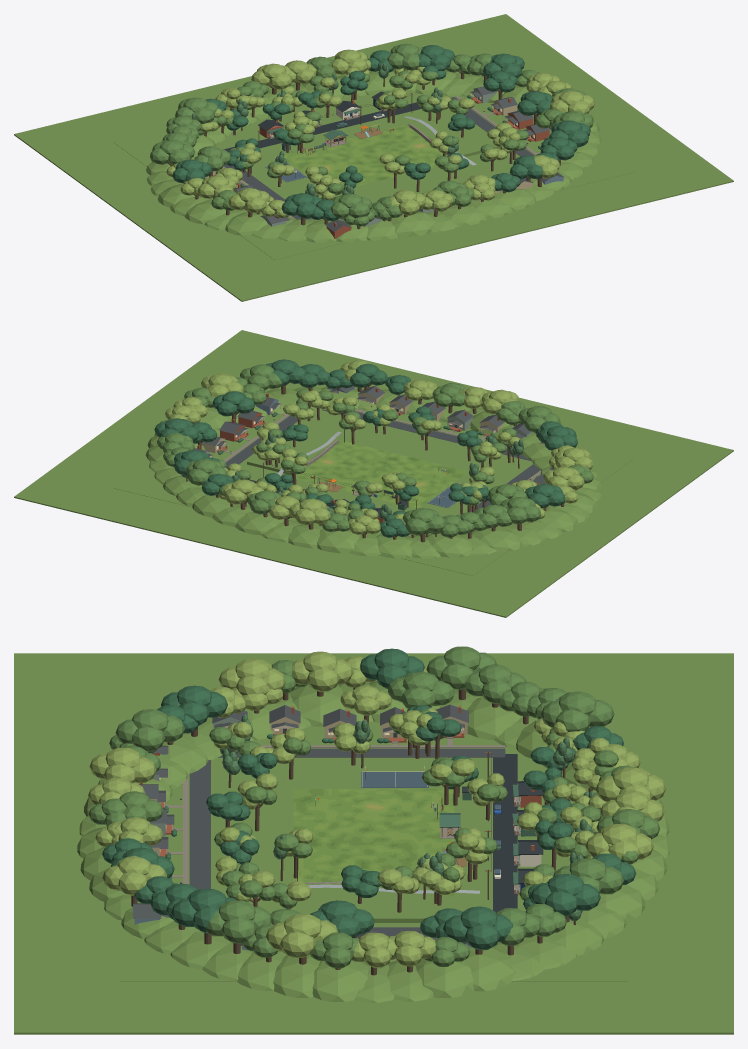
The model's file is eastside-commons.glb.
3 renders of one model, top to bottom at view 1: azimuth 30°, elevation 25°; view 2: azimuth 150°, elevation 25°; view 3: azimuth 270°, elevation 25°, orthographic. The views are drawn at different scales.
Visible parts, largest first — view 1: 01 • Eastside residential streets, Neighborhood tree canopy, Parkland and east terrace, 01 • Playing surface, Porches and street; view 2: 01 • Eastside residential streets, Neighborhood tree canopy, Parkland and east terrace, 01 • Playing surface, Park entrance and recreation; view 3: 01 • Eastside residential streets, Neighborhood tree canopy, Parkland and east terrace, 01 • Playing surface, Porches and street, Park entrance and recreation.
Boxes of the visible parts, <box> form: 01 • Eastside residential streets: <box>14,14,733,301</box>; Neighborhood tree canopy: <box>191,52,529,200</box>; Parkland and east terrace: <box>114,54,633,259</box>; 01 • Playing surface: <box>284,124,468,188</box>; Porches and street: <box>223,91,421,151</box>; 01 • Eastside residential streets: <box>14,330,733,617</box>; Neighborhood tree canopy: <box>181,389,523,537</box>; Parkland and east terrace: <box>114,382,633,575</box>; 01 • Playing surface: <box>281,439,468,508</box>; Park entrance and recreation: <box>310,429,459,510</box>; 01 • Eastside residential streets: <box>14,646,733,1034</box>; Neighborhood tree canopy: <box>206,699,638,925</box>; Parkland and east terrace: <box>120,704,627,981</box>; 01 • Playing surface: <box>293,789,454,896</box>; Porches and street: <box>484,751,543,912</box>; Park entrance and recreation: <box>297,766,518,895</box>.
Size of the model in its own units: 212 by 23.19 by 170.
40 materials, 3 textured.
